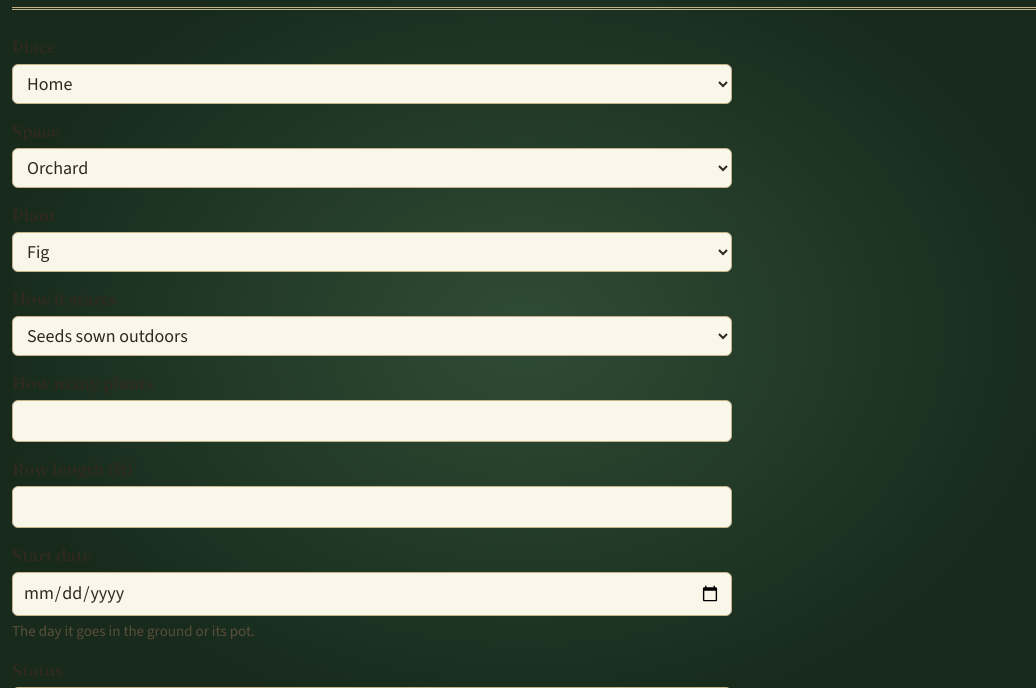
planting form for perennials › Use the library’s estimate fills the bearing date
In the date field labelled "Start date": (372, 594) [12,572,732,616], type "2027-03-15"
(page scrolled)
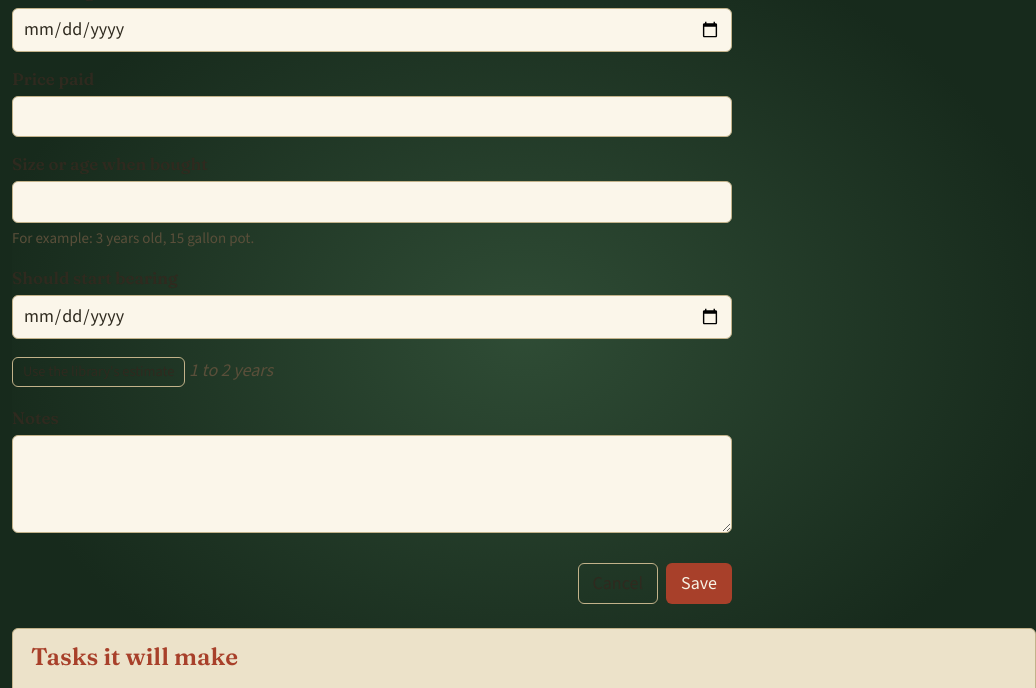
Click the button "Use the library's estimate": (99, 372) [12,356,185,387]
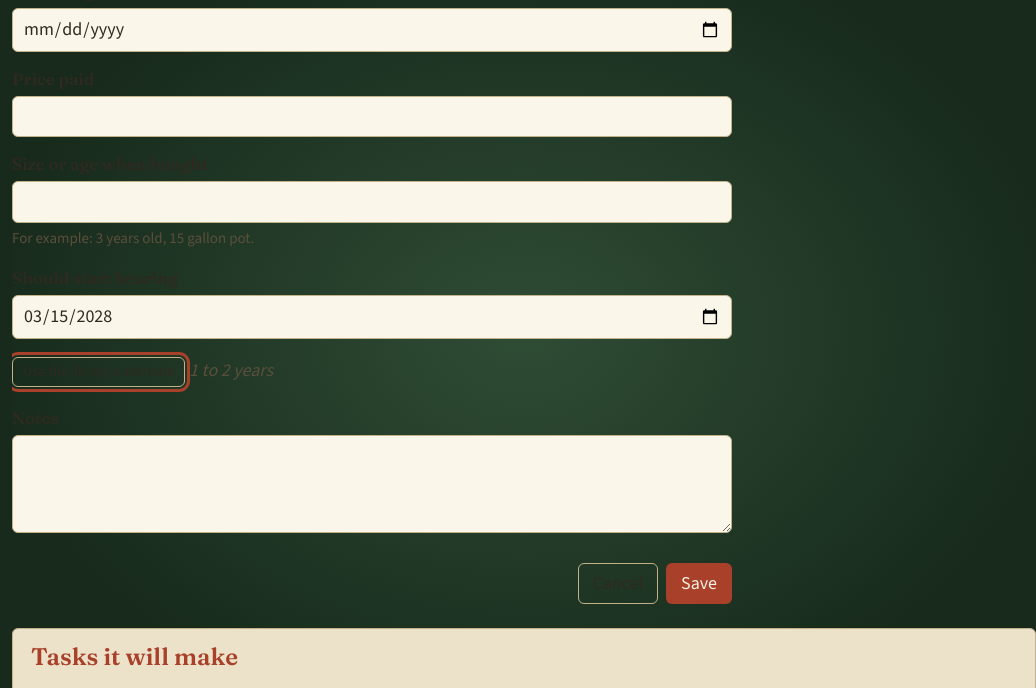
Check: the date field labelled "Should start bearing" holds "2028-03-15", box [12,295,732,338]
